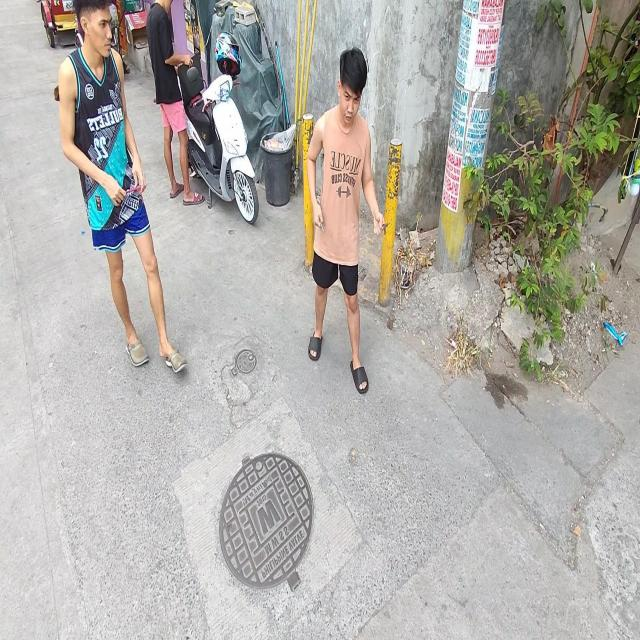scissor: (126, 184, 141, 193)
